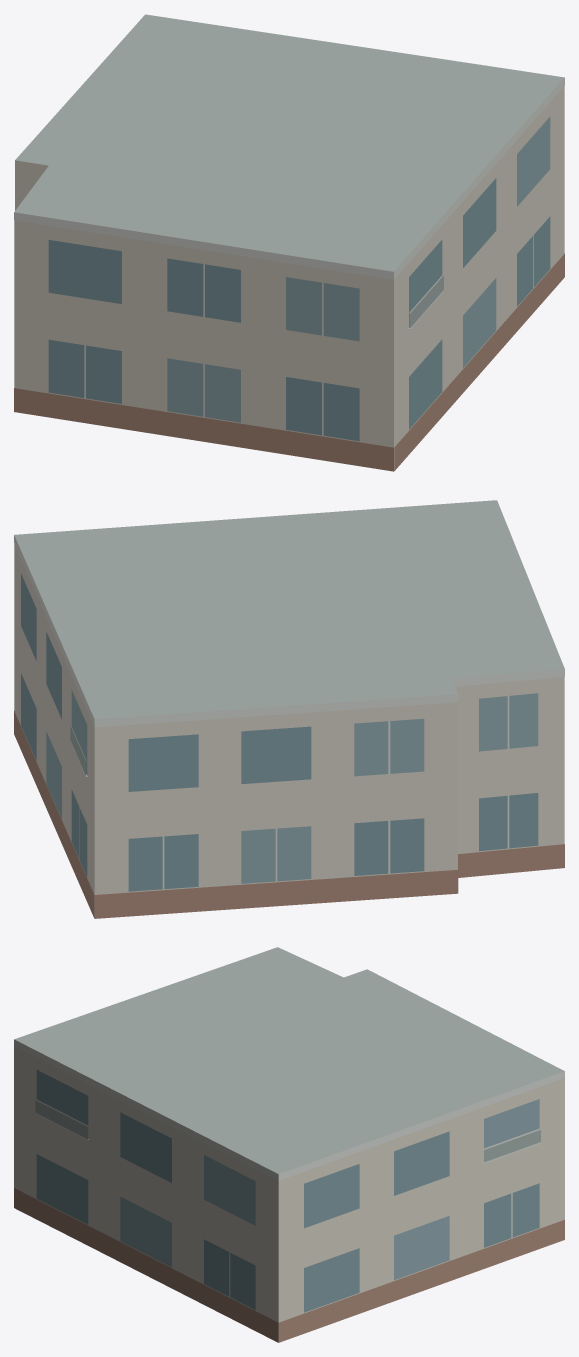
Rendered from survey-upis-33032599.glb.
The picture shows the model from 3 angles, top to bottom: view 1: azimuth 30°, elevation 25°; view 2: azimuth 150°, elevation 25°; view 3: azimuth 270°, elevation 25°; orthographic projection. The views are drawn at different scales.
Parts seen in each view (by area): view 1: survey-upis-33032599.tmp; view 2: survey-upis-33032599.tmp; view 3: survey-upis-33032599.tmp.
Part boxes in pixels (x1,y1,x2,y2): survey-upis-33032599.tmp: [14, 14, 564, 471]; survey-upis-33032599.tmp: [14, 500, 564, 918]; survey-upis-33032599.tmp: [14, 947, 564, 1342].
Bounding box in the file's own units: 17.63 × 6.1 × 18.06.
